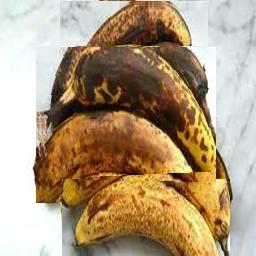Banana Rotten: (36, 47, 216, 203), (60, 1, 208, 46)
Banana Semirotten: (62, 179, 230, 256)
